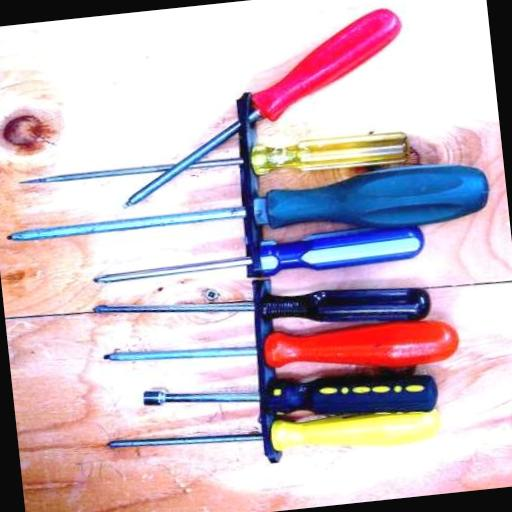screwdriver: (103, 4, 420, 208), (3, 156, 495, 267), (101, 315, 462, 397), (17, 129, 411, 202), (93, 269, 433, 351), (108, 404, 442, 479), (90, 225, 428, 294), (142, 360, 440, 438)
